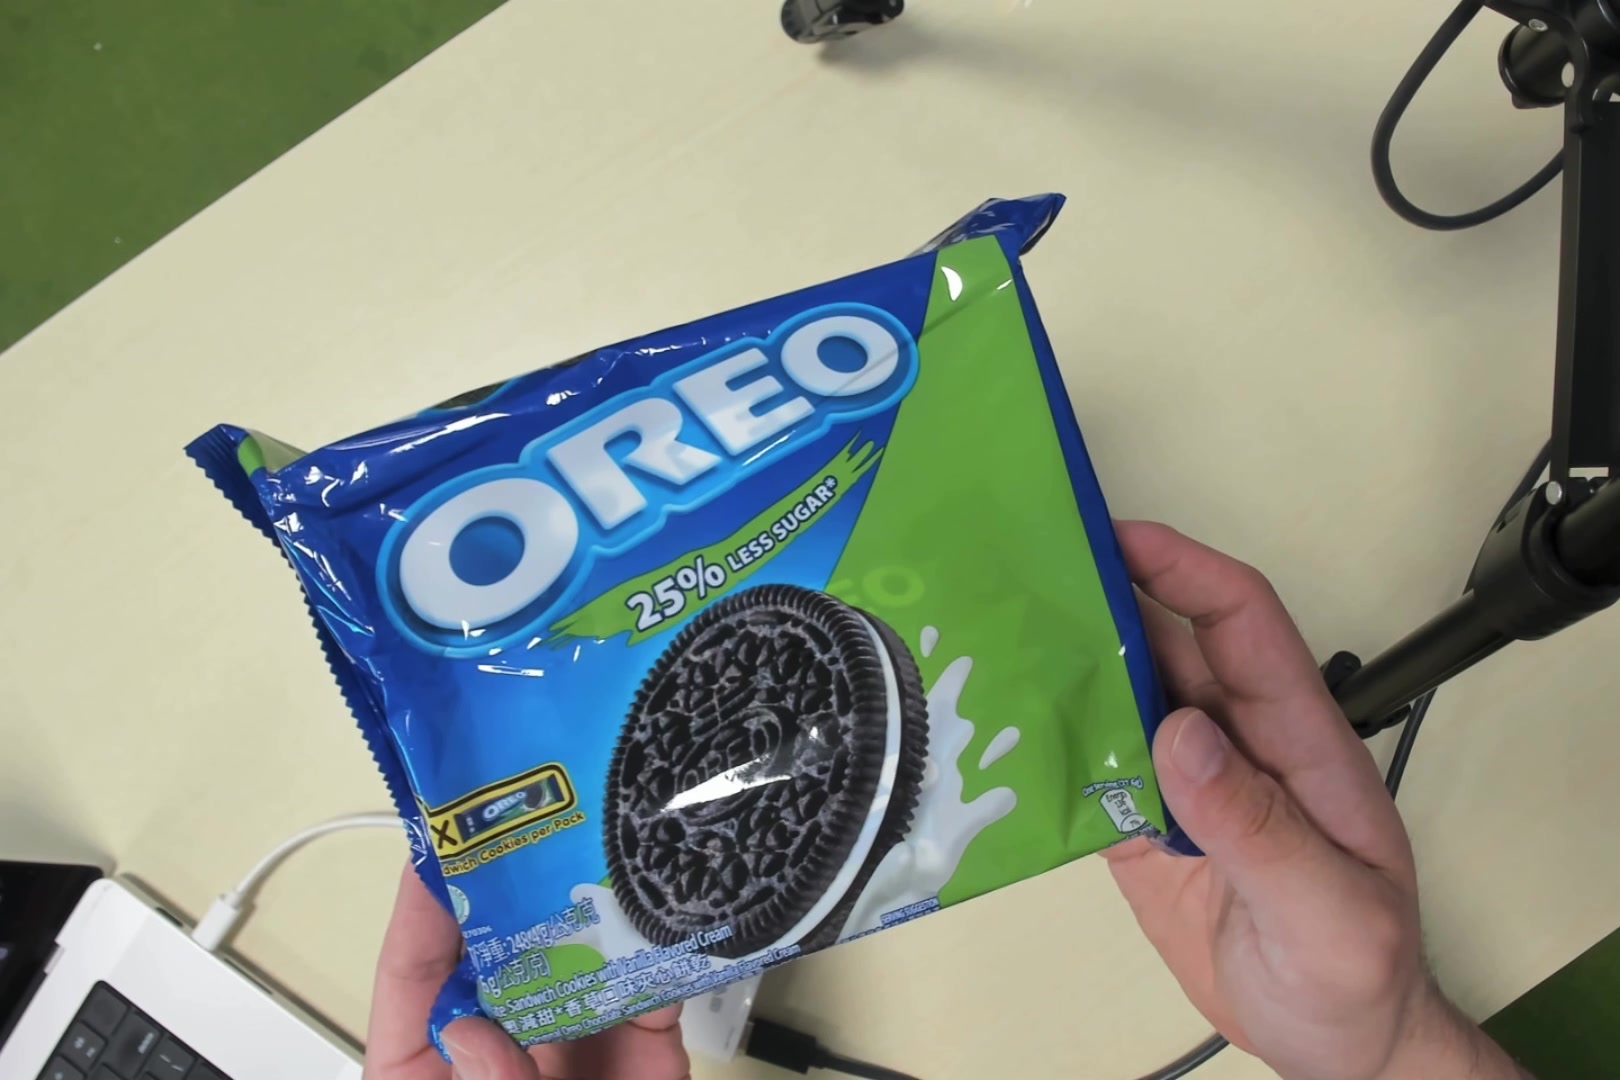SweetsChocolatesOthers_200-299g_Halal_NonHealthy: (388, 329, 1111, 974)
